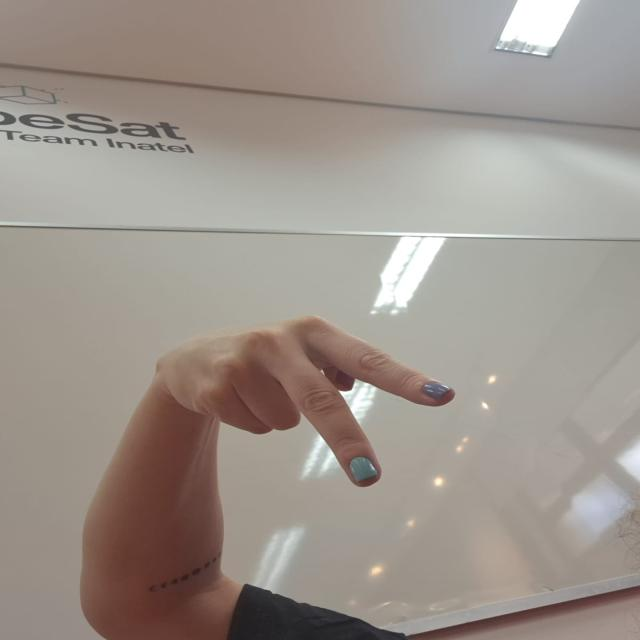P: (146, 312, 458, 490)
